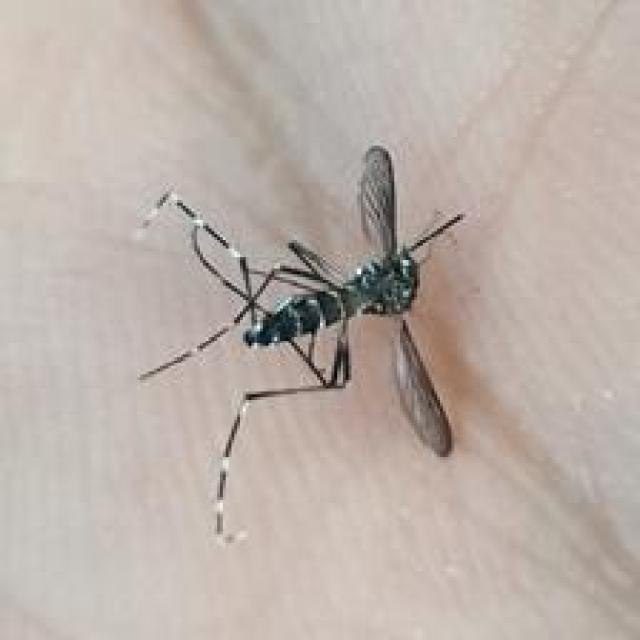Aedes albopictus: (136, 143, 467, 543)
